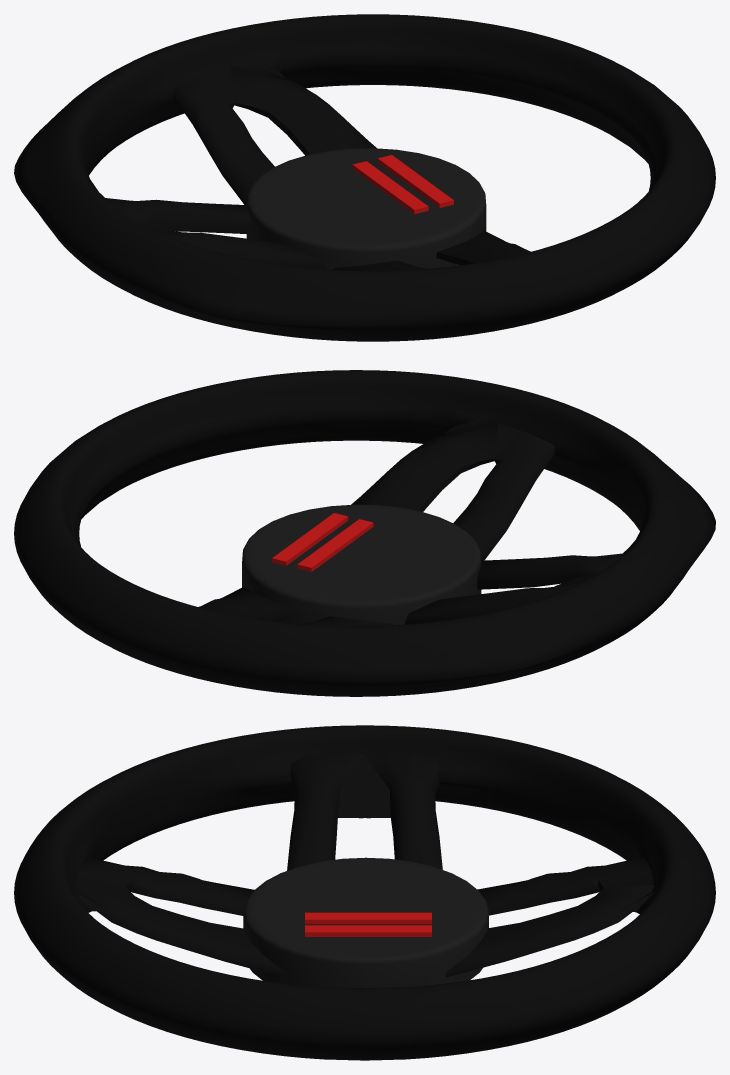
3 views of the same model, one above another, from view 1: azimuth 30°, elevation 25°; view 2: azimuth 150°, elevation 25°; view 3: azimuth 270°, elevation 25° (orthographic). The views are drawn at different scales.
Visible parts, largest first — view 1: Box002; view 2: Box002; view 3: Box002.
Part boxes in pixels (x1,y1,x2,y2): Box002: (14,14,715,341); Box002: (14,370,715,696); Box002: (14,725,715,1060).
Size of the model in its own units: 6865 by 1054 by 6865.
